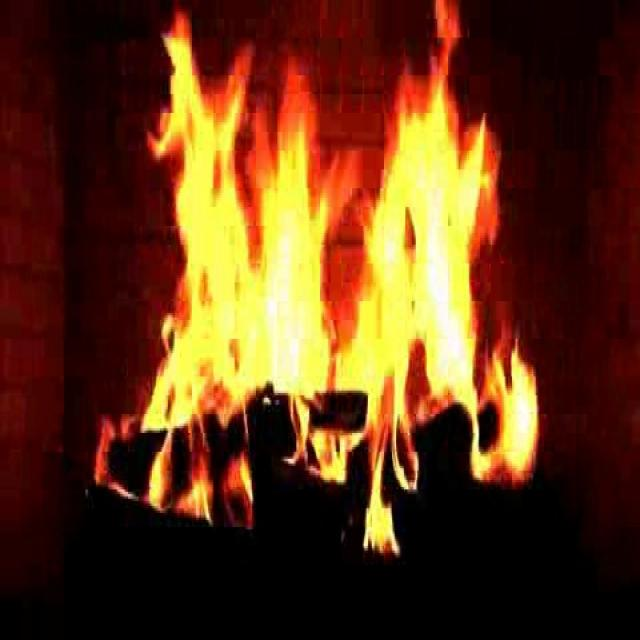fire: (137, 32, 533, 523)
